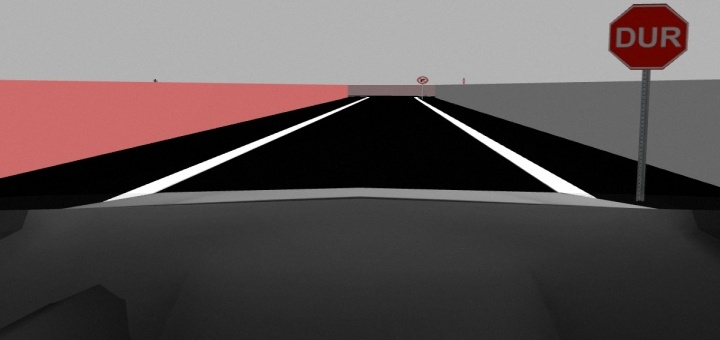dur: (603, 2, 690, 72)
